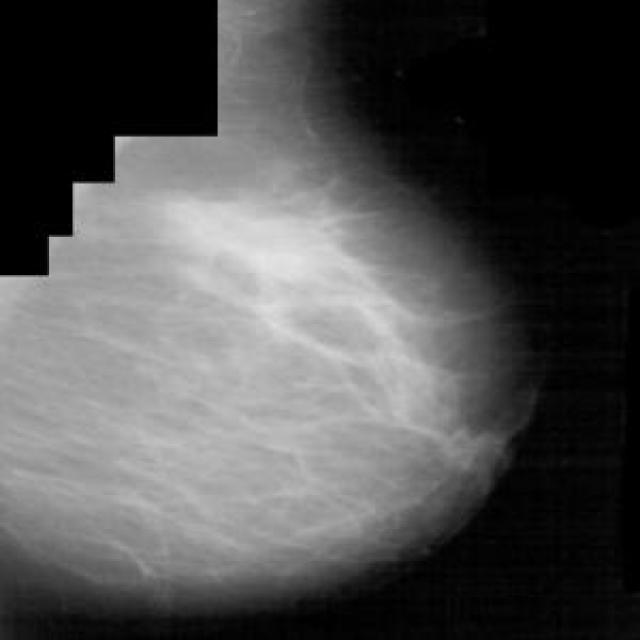tumor: (170, 182, 412, 344)
